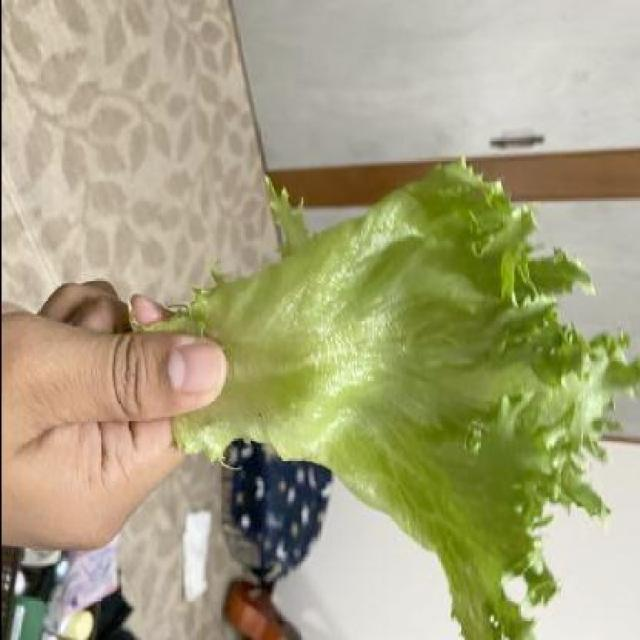Lettuce: (160, 155, 640, 640)
